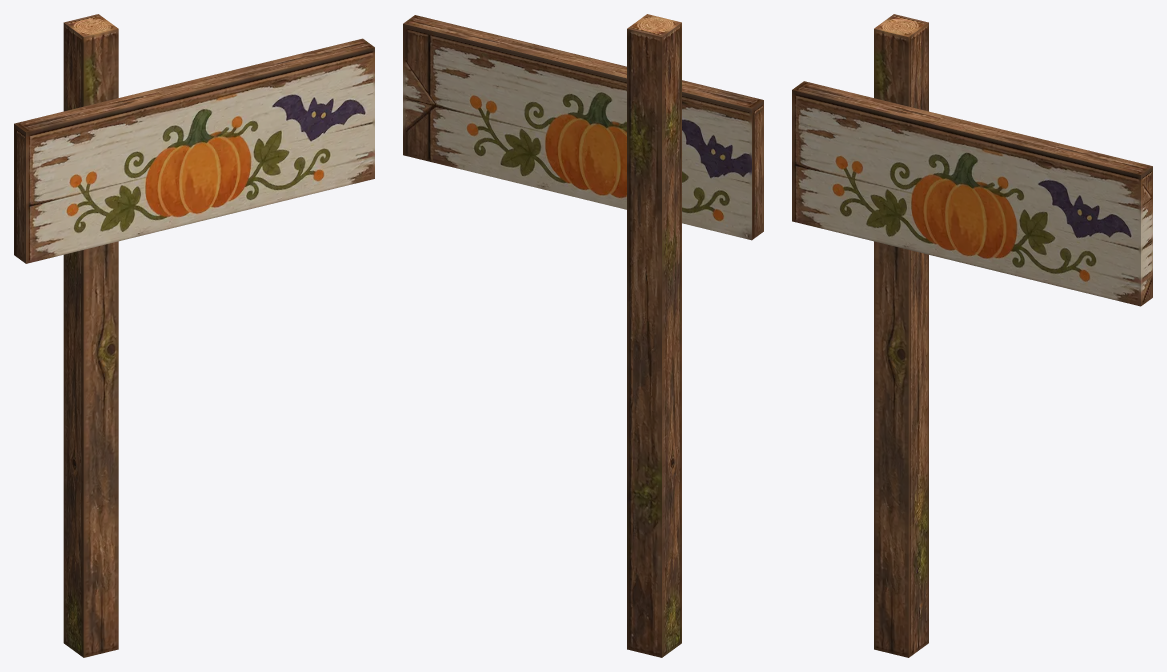
File: signpost.glb
The picture shows the model from 3 angles, left to right: view 1: azimuth 30°, elevation 25°; view 2: azimuth 150°, elevation 25°; view 3: azimuth 330°, elevation 25°; orthographic projection.
Visible parts, largest first — view 1: GEO-signpost; view 2: GEO-signpost; view 3: GEO-signpost.
Boxes of the visible parts, x1,y1,x2,y2 form: GEO-signpost: (14,14,374,657); GEO-signpost: (403,14,763,657); GEO-signpost: (792,14,1152,657).
Size of the model in its own units: 1 by 1.7 by 0.16.
1 material, 1 textured.
